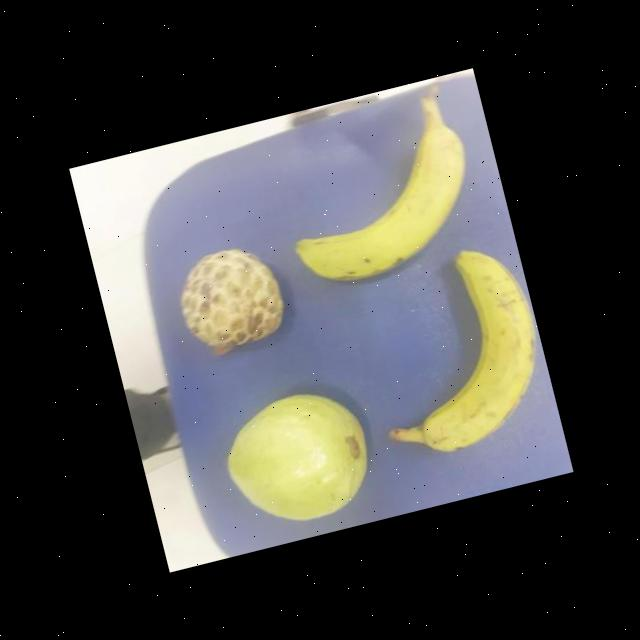Sakya fruit: (168, 239, 292, 365)
banana: (380, 240, 558, 465), (278, 122, 487, 296)
guava: (216, 383, 382, 543)
